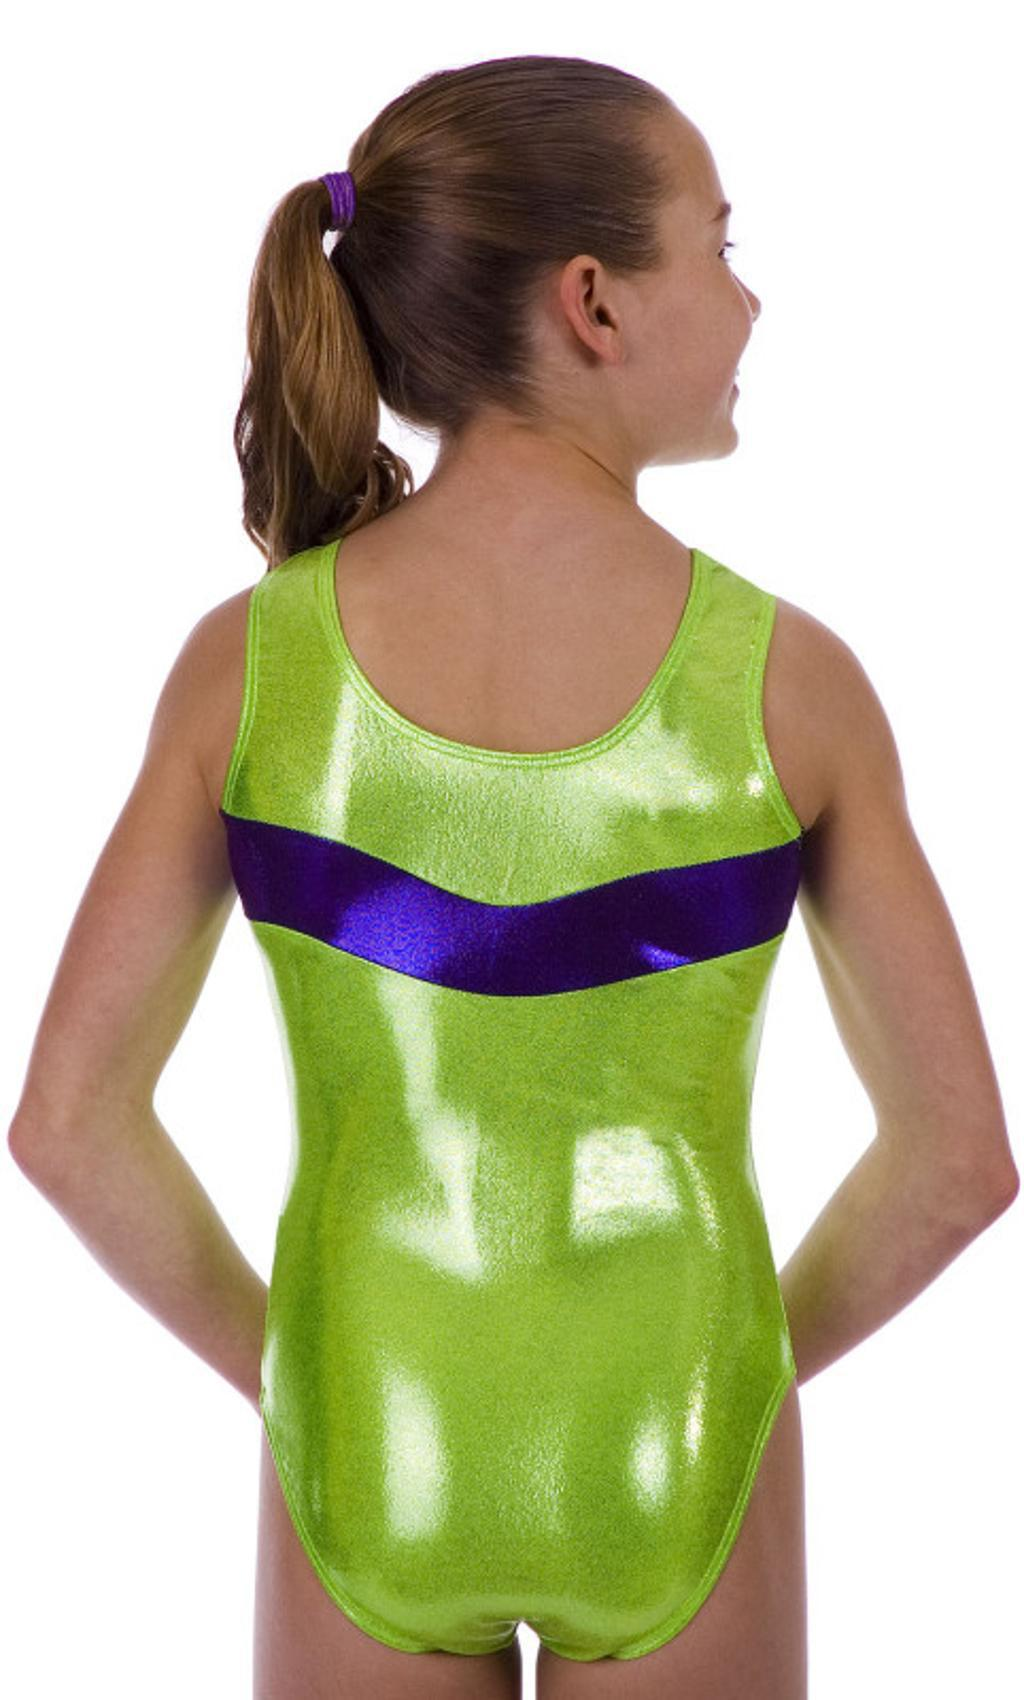face: (586, 97, 759, 456)
